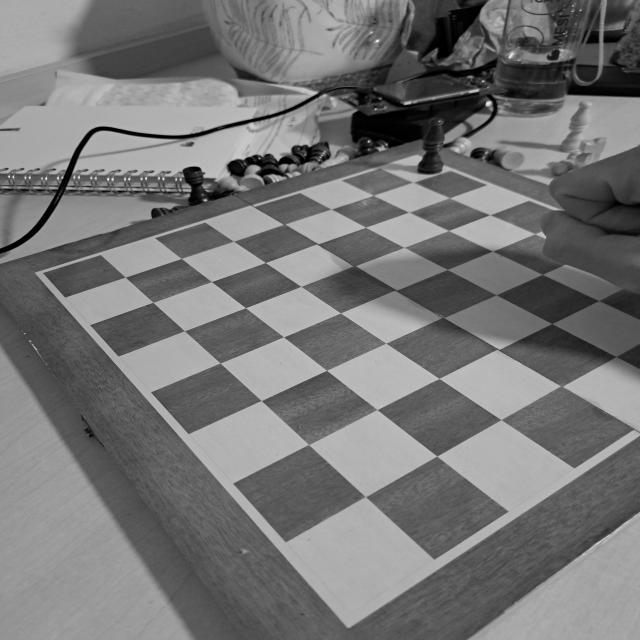chess-table-corners: (317, 596, 380, 636), (27, 262, 62, 284), (412, 151, 422, 158)
